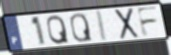1: (31, 15, 47, 47)
F: (135, 5, 160, 38)
I: (96, 9, 109, 44)
Q: (45, 14, 70, 46), (69, 12, 94, 43)
X: (114, 6, 140, 41)
